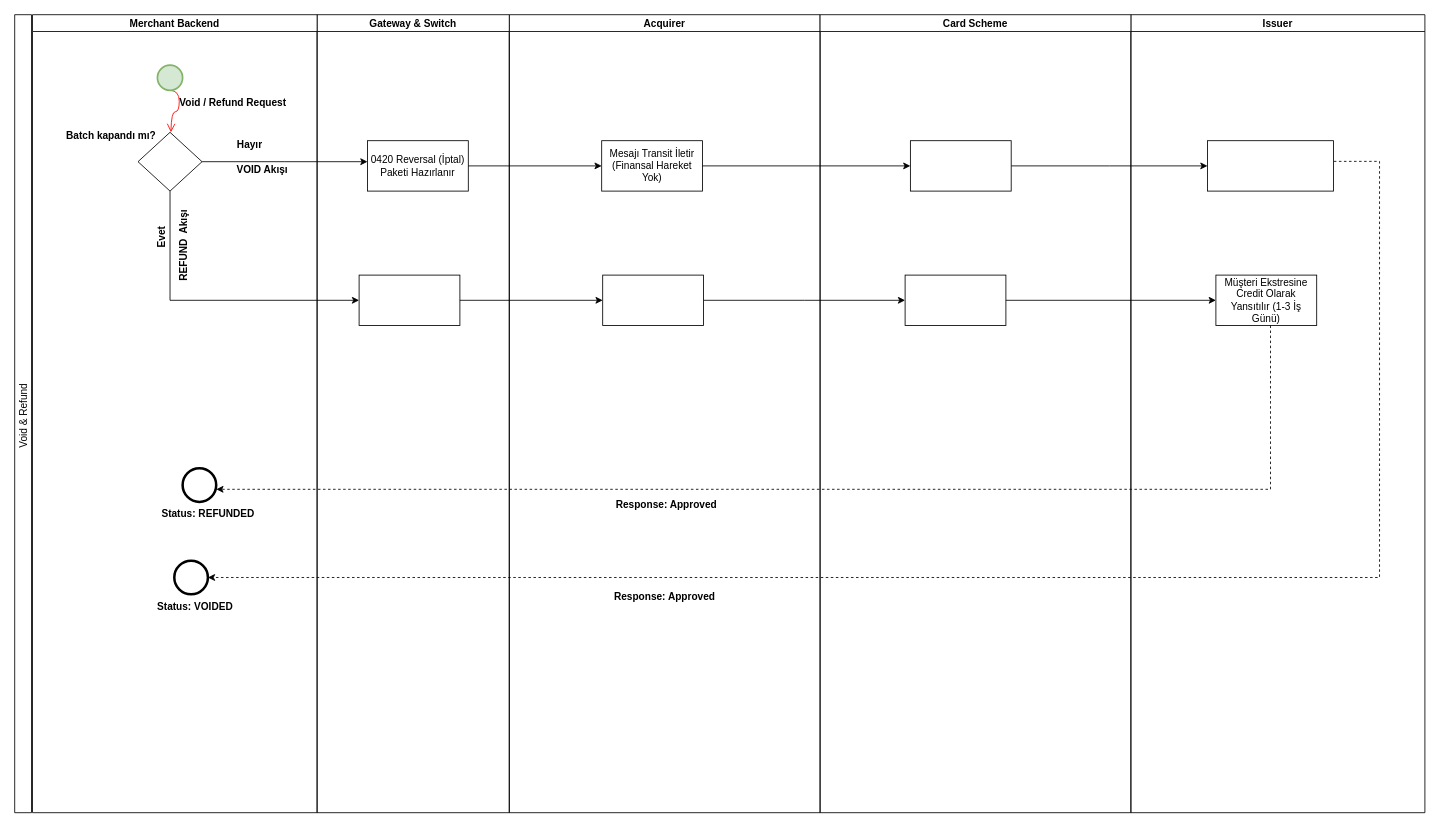
The diagram is 1440 pixels wide and 827 high, and some of its shapes have lost their labels. The centre of each missing label's shape, as x and y in pixels:
Authorization Blokesi Kaldırılır (Limit ANINDA açılır): point 1270,165
Finansal İade & Takas (Clearing) Mesajı İletilir: point 955,300
İade Tutarı, Üye İşyeri Hesabından Kesilir: point 653,300
Refund (Credit) İsteği Oluşturulur: point 409,300
Void (Reversal) Mesajı Yönlendirilir: point 960,165
